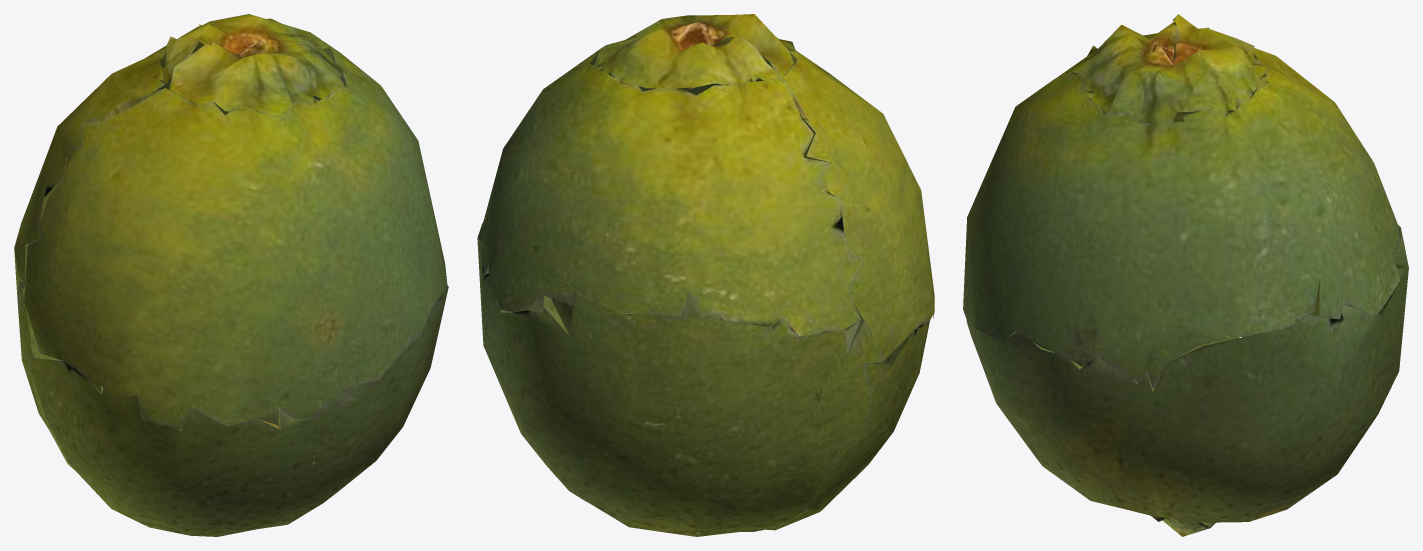
The model's file is isl_lime.glb.
The picture shows the model from 3 angles, left to right: view 1: azimuth 30°, elevation 25°; view 2: azimuth 150°, elevation 25°; view 3: azimuth 270°, elevation 25°; orthographic projection.
Parts seen in each view (by area): view 1: food_lime_01; view 2: food_lime_01; view 3: food_lime_01.
Part boxes in pixels (box(x1,y1,x2,y2)): food_lime_01: box(14, 14, 448, 536); food_lime_01: box(477, 14, 934, 536); food_lime_01: box(963, 14, 1408, 536).
Bounding box in the file's own units: 0.0606 × 0.076 × 0.0614.
1 material, 1 textured.
